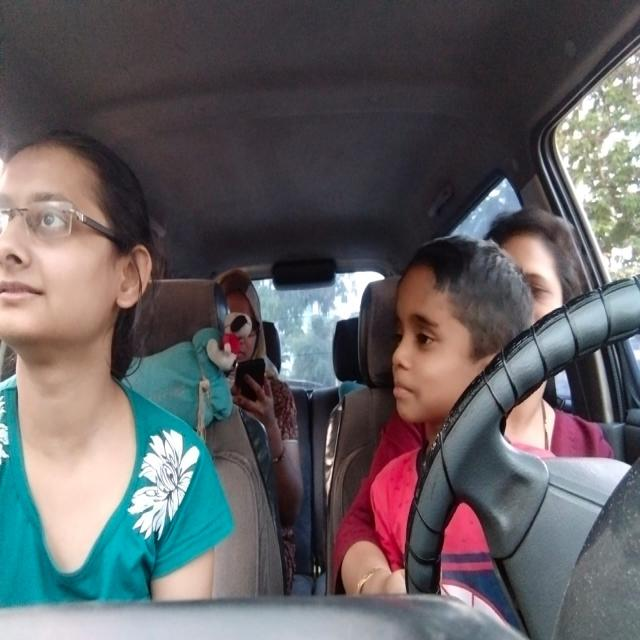child: (381, 218, 529, 418)
person: (0, 126, 161, 424), (516, 200, 593, 336), (218, 272, 287, 411)
